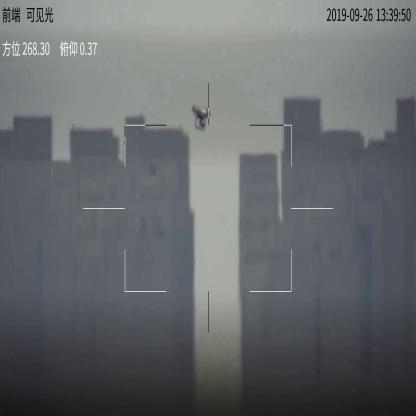uav: (189, 102, 214, 130)
